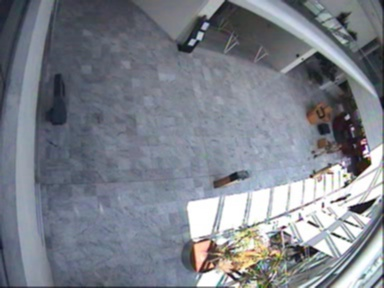person: (309, 160, 345, 179), (310, 141, 342, 159)
